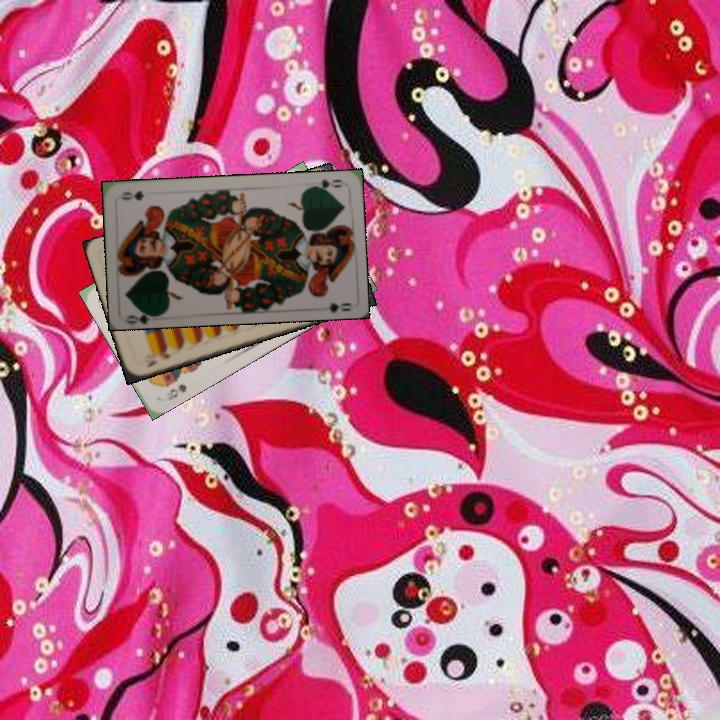E10: (143, 346, 175, 370)
GO: (123, 304, 164, 324), (306, 175, 346, 194)
S8: (162, 379, 189, 403)
